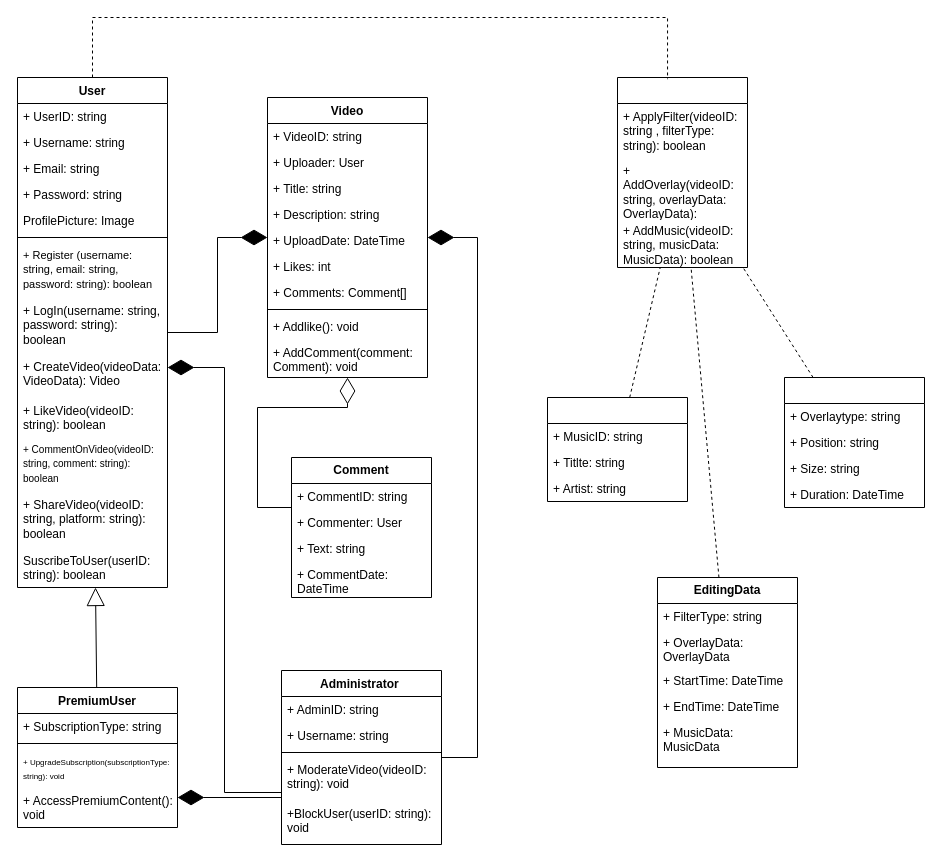
The diagram is 942 pixels wide and 865 high, and some of its shapes have lost their labels. The box of each missing label's shape, as (x1, y1, x2, y2) in pixels:
MusicData: (546, 396, 688, 502)
OverlayData: (784, 376, 924, 508)
VideoEditor: (616, 76, 748, 268)
